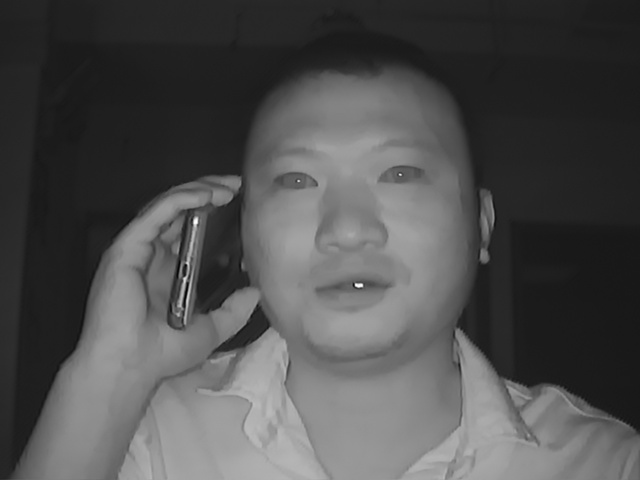hand: (90, 169, 236, 367)
